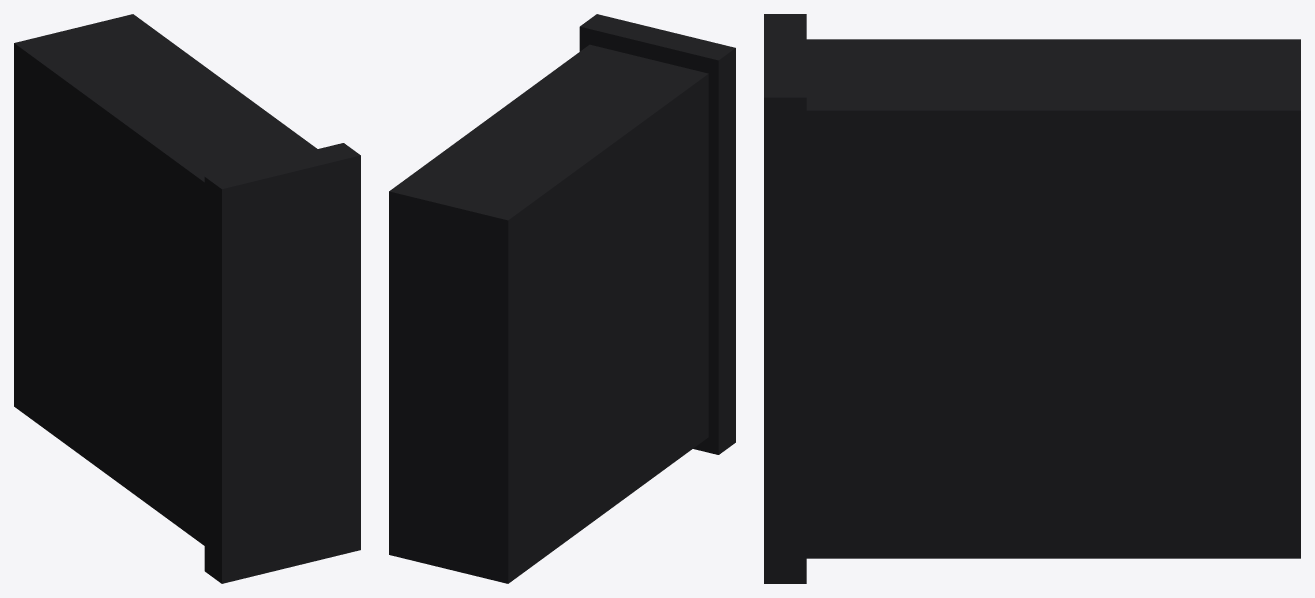
Rendered from Saiga12_Mag5.fbx.
3 renders of one model, left to right at view 1: azimuth 30°, elevation 25°; view 2: azimuth 150°, elevation 25°; view 3: azimuth 270°, elevation 25°, orthographic. The views are drawn at different scales.
Parts seen in each view (by area): view 1: prims; view 2: prims; view 3: prims.
Boxes of the visible parts, x1=… form: prims: x1=14, y1=14, x2=360, y2=583; prims: x1=389, y1=14, x2=735, y2=583; prims: x1=764, y1=14, x2=1300, y2=583.
Size of the model in its own units: 0.0168 by 0.0456 by 0.0456.
